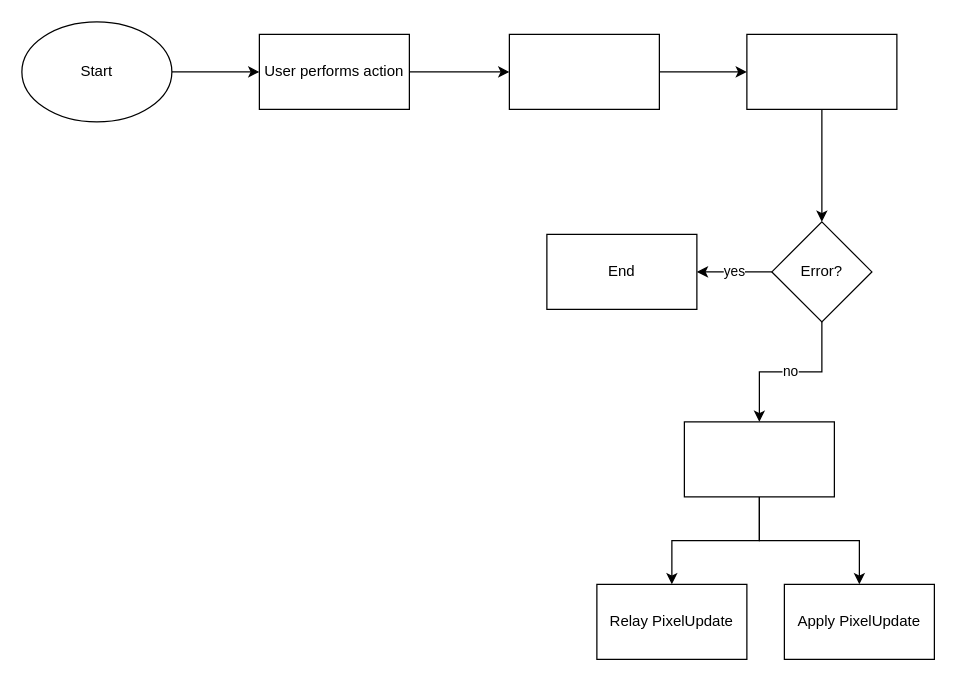
Some shapes in this 956 by 681 pixel diagram are drawn without their labels. The box of each missing label's shape, as (x1, y1, x2, y2) in pixels:
DojoExecutor creates DojoCall: (508, 33, 659, 109)
Execute Transaction: (683, 421, 834, 497)
Transaction Simulation: (746, 33, 897, 109)
